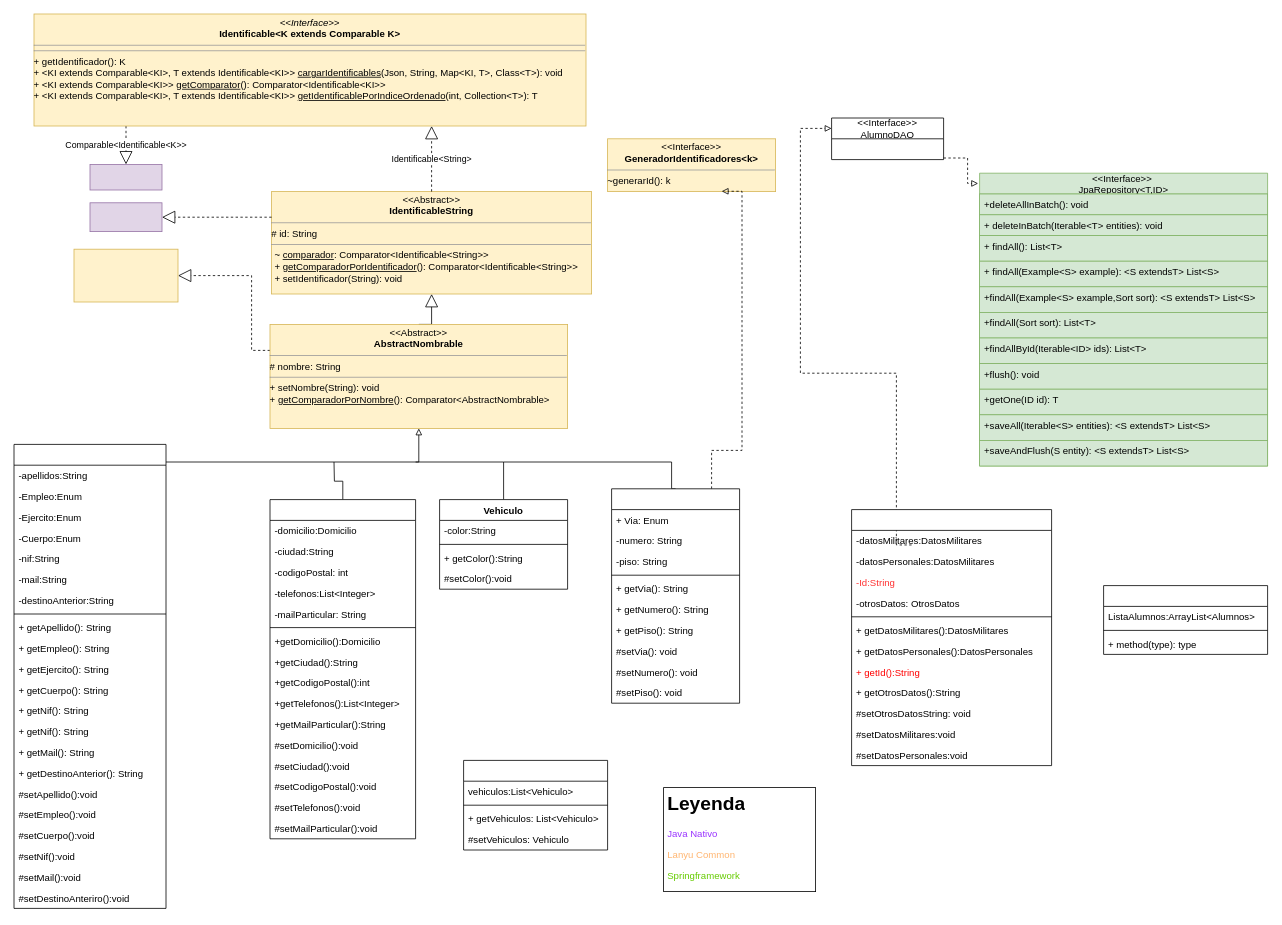
Image size: 1282x925. Some labels were removed from this diagram. The box of each missing label's shape, as (x1, y1, x2, y2) in pixels:
<<Interface>> Nombrable + getNombre(): String: (73, 248, 178, 302)
Alumno: (851, 509, 1052, 766)
App: (1103, 585, 1268, 654)
DatosMilitares: (13, 444, 166, 908)
DatosPersonales: (269, 499, 416, 839)
Domicilio: (611, 488, 740, 703)
otrosDatos: (463, 760, 608, 850)
«interface» Comparable: (89, 164, 162, 190)
«interface» Serializable: (89, 202, 162, 232)
